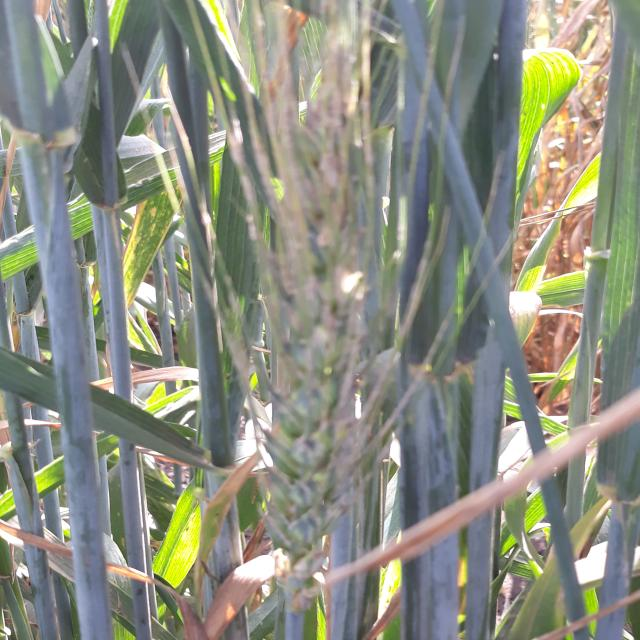powder_mildew: (242, 0, 395, 640), (106, 186, 190, 329), (151, 476, 205, 622)
